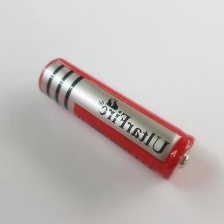battery: (37, 54, 198, 184)
